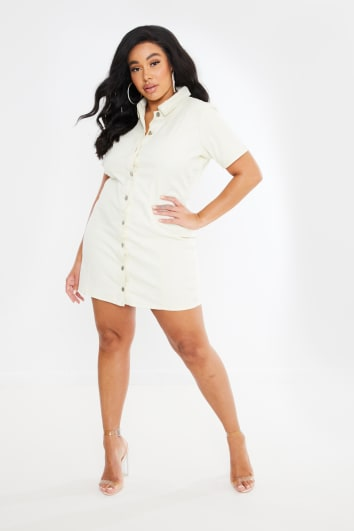C_dress: (63, 93, 223, 315)
